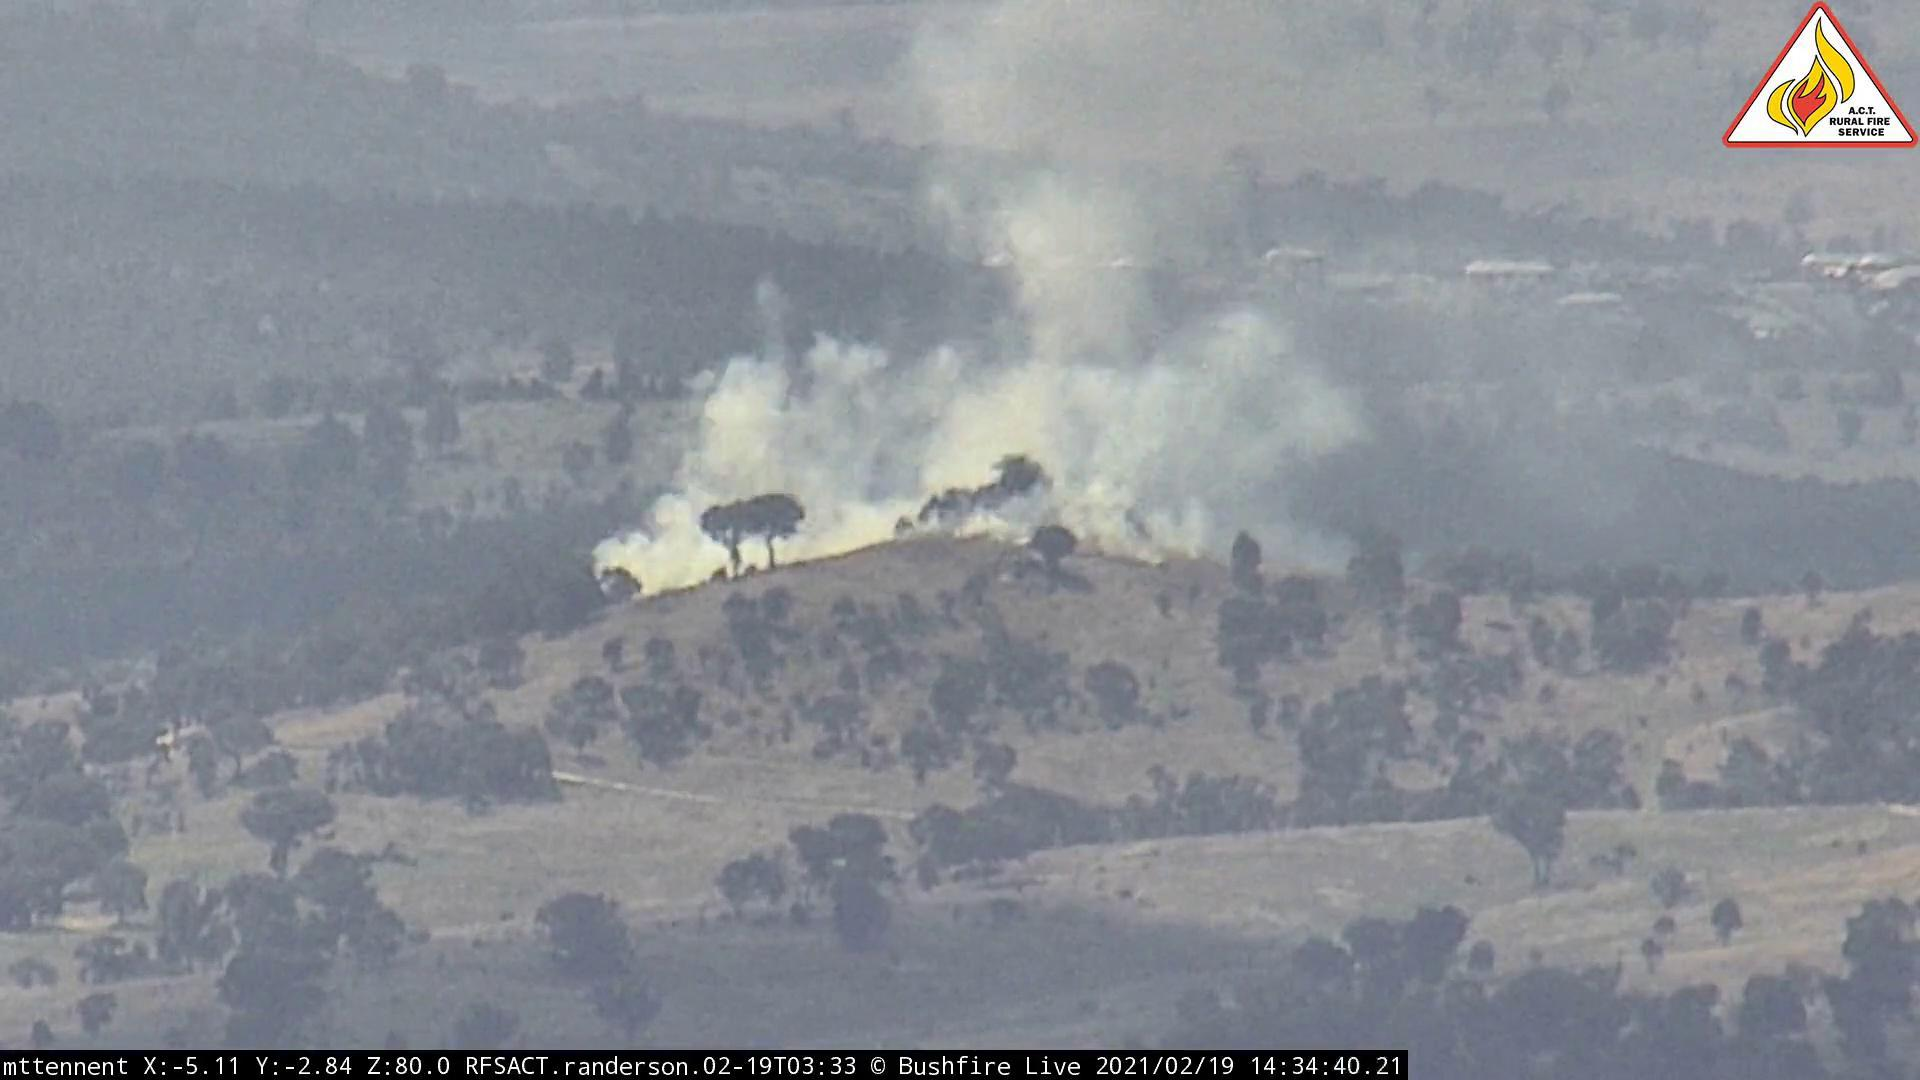Smoke: (593, 3, 1429, 626)
